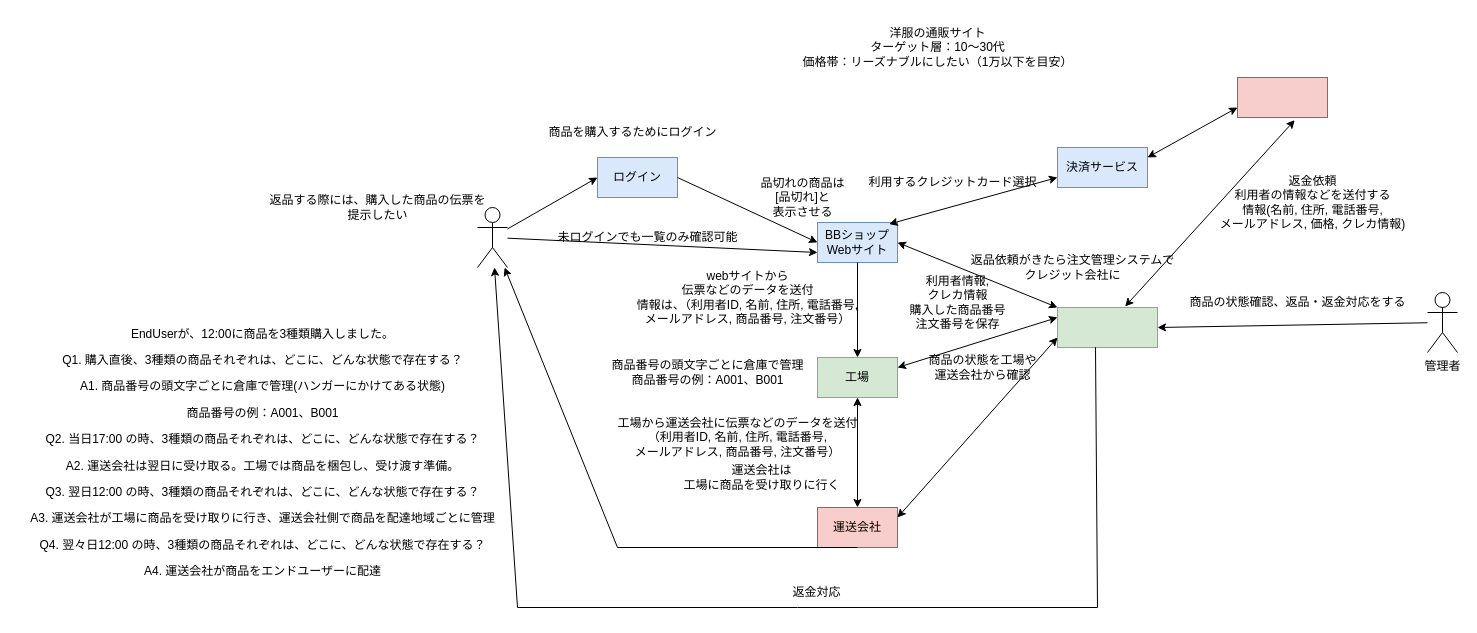
Image size: 1477x633. Some labels were removed from this diagram. The shapes that lost their labels are listed below. From the top down, each one's centre as x and y in pixels, then its label:
[1282,97]: クレジット会社
[492,237]: エンドユーザー
[1107,327]: BBショップ 注文管理システム
